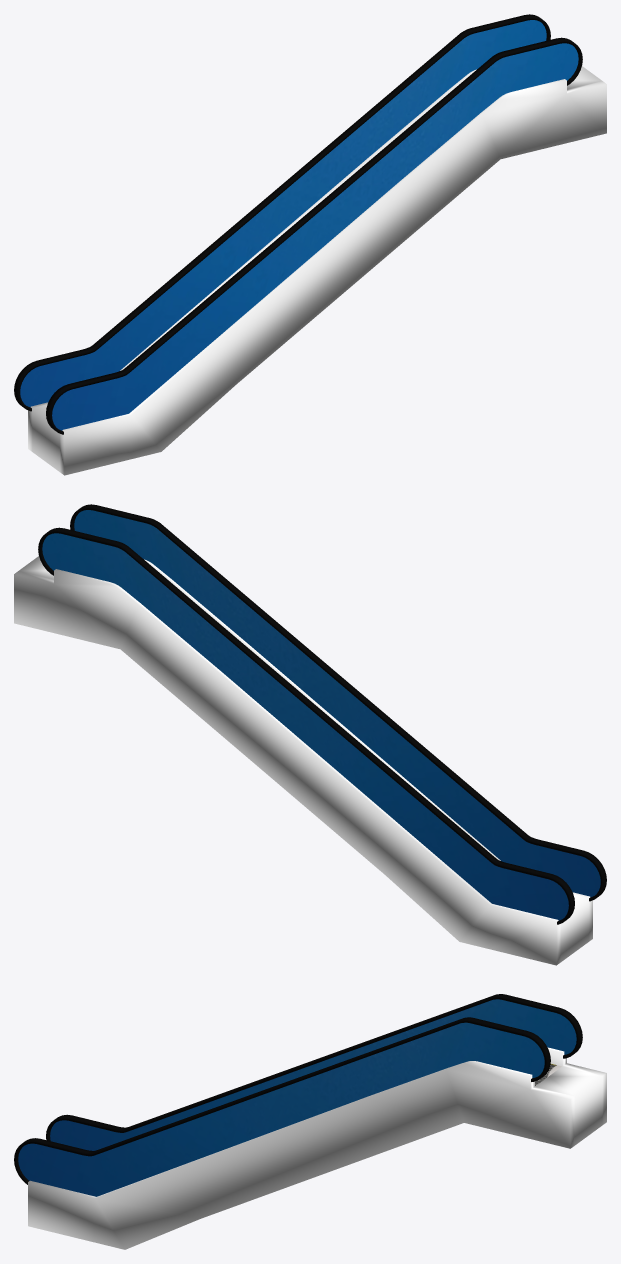
The model's file is escaleras.obj.
3 views of the same model, one above another, from view 1: azimuth 30°, elevation 25°; view 2: azimuth 150°, elevation 25°; view 3: azimuth 330°, elevation 25° (orthographic).
Visible parts, largest first — view 1: Escalator; view 2: Escalator; view 3: Escalator.
Boxes of the visible parts, x1=… form: Escalator: x1=14, y1=14, x2=606, y2=475; Escalator: x1=14, y1=504, x2=606, y2=965; Escalator: x1=14, y1=994, x2=606, y2=1249.
Bounding box in the file's own units: 16.5 × 8.86 × 1.87.
4 materials, 4 textured.
